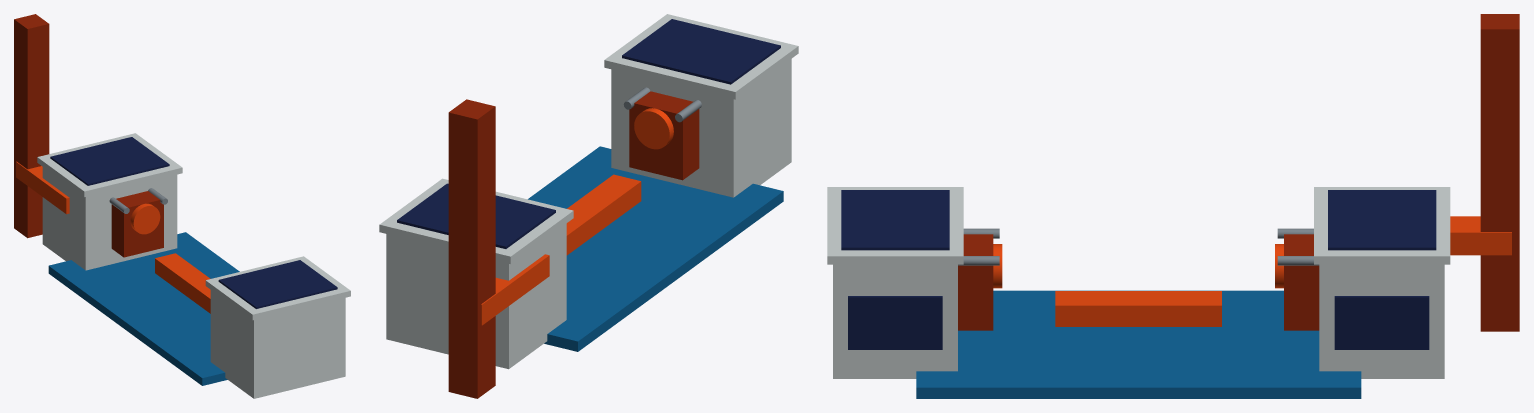
The model's file is bearing_demount_station.dae.
3 renders of one model, left to right at view 1: azimuth 30°, elevation 25°; view 2: azimuth 150°, elevation 25°; view 3: azimuth 270°, elevation 25°, orthographic. The views are drawn at different scales.
Parts seen in each view (by area): view 1: bearing_demount_station; view 2: bearing_demount_station; view 3: bearing_demount_station.
Boxes of the visible parts, box(x1,y1,x2,y2) form: bearing_demount_station: box(14, 14, 350, 398); bearing_demount_station: box(379, 14, 798, 398); bearing_demount_station: box(827, 14, 1519, 398).
Size of the model in its own units: 1.65 by 4.98 by 2.4.
